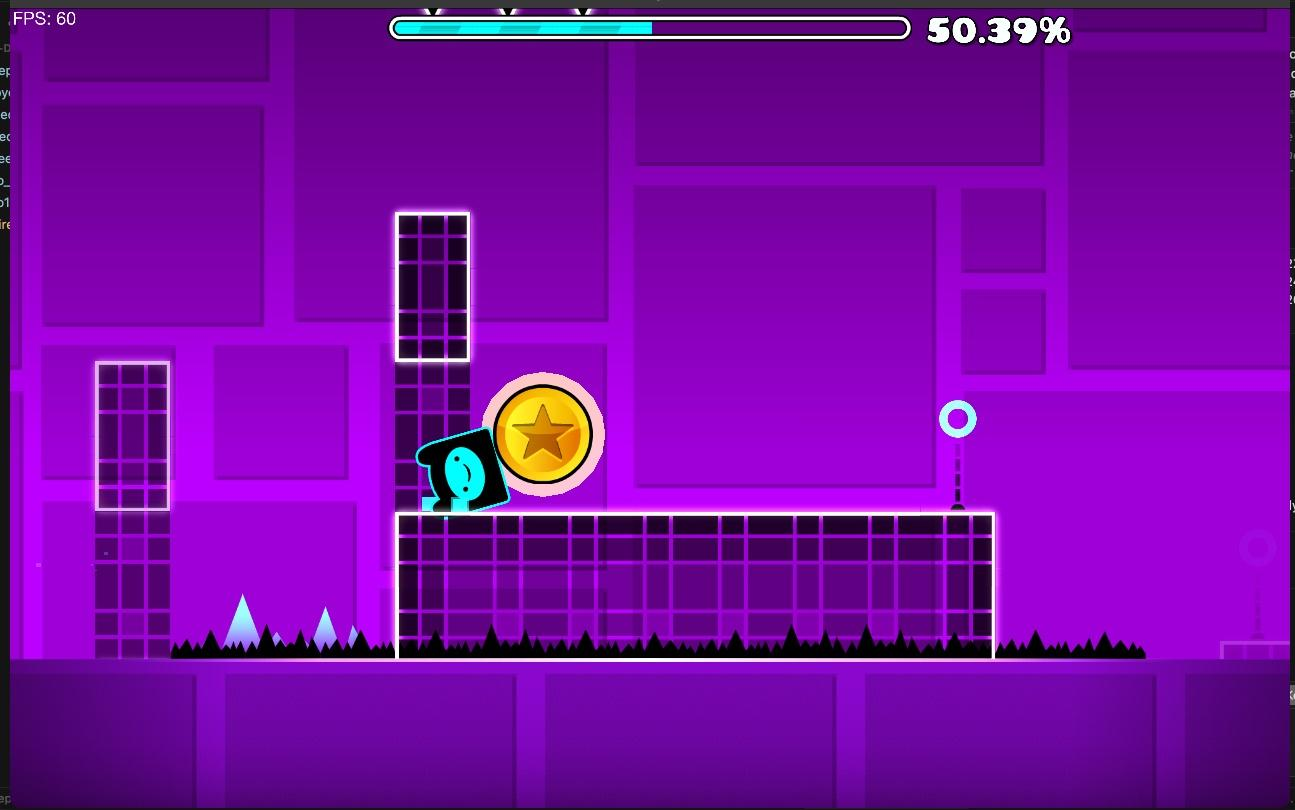block: (400, 513, 996, 660), (97, 364, 171, 657), (399, 214, 471, 363)
coin: (482, 372, 605, 496)
player: (416, 427, 509, 512)
spike: (175, 598, 392, 657), (998, 631, 1145, 657)
